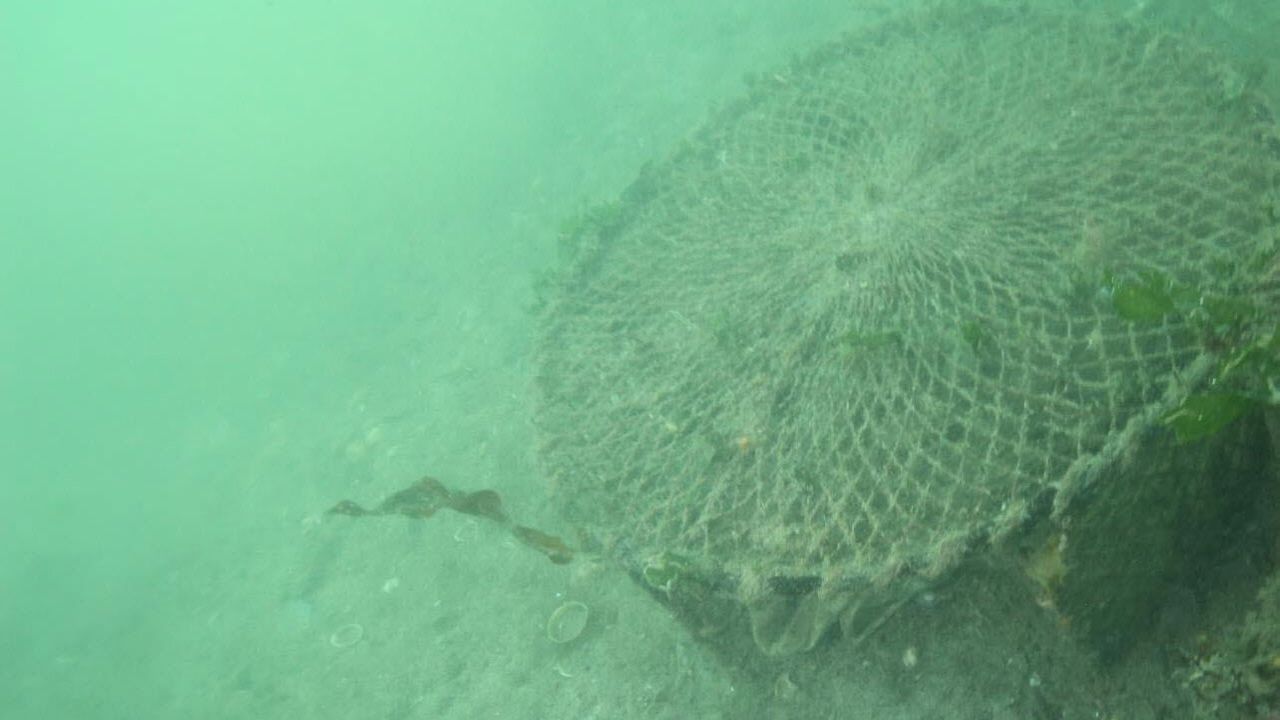circular fish trap: (525, 3, 1280, 580)
